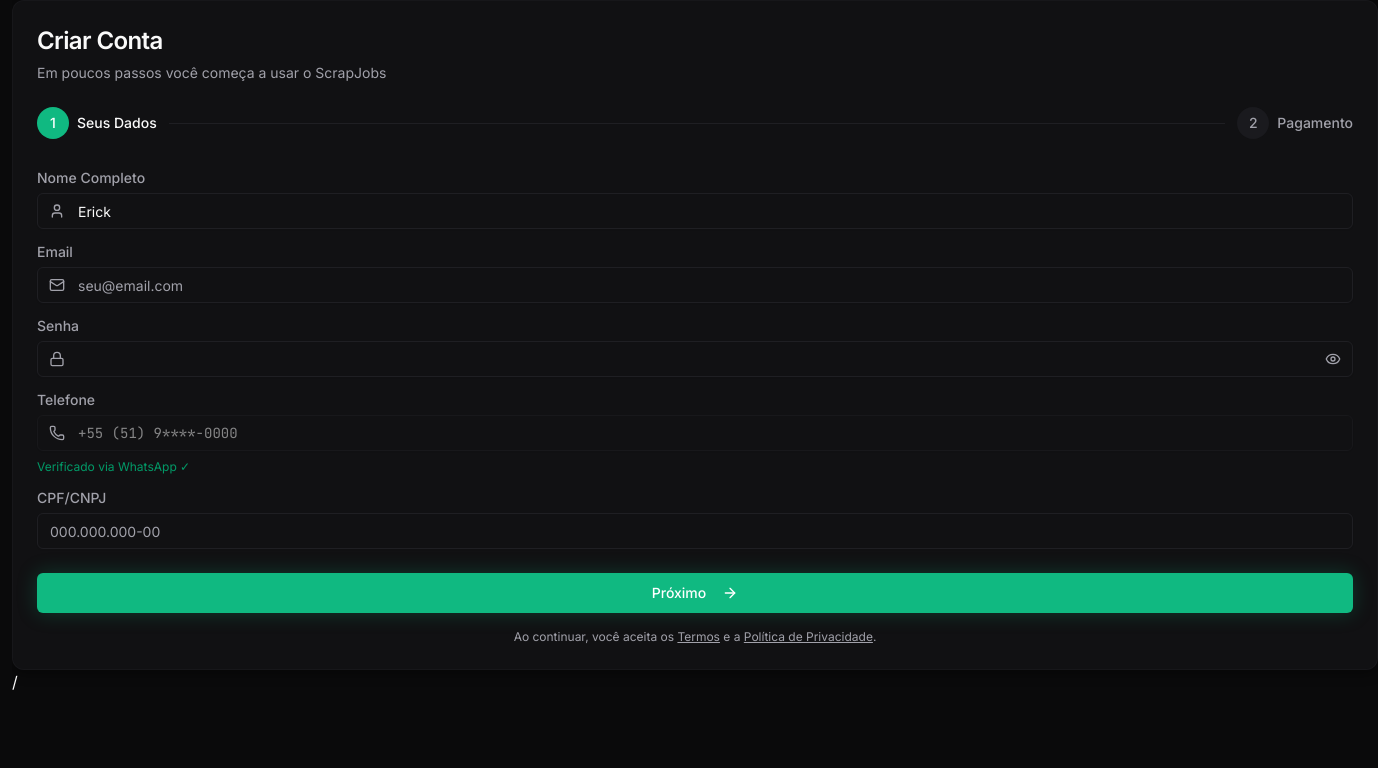
Test case: PaymentForm — modo lead (checkout mágico via lead_token) › erro 409 no complete mostra a mensagem do backend (não sempre "e-mail/CPF") e manda pro login
The image size is (1378, 768).
Expected: the field labelled "Nome Completo" holds "Erick", [37, 193, 1353, 229]
Type "erick@teste.com" into the field labelled "Email" at [695, 285], box [37, 267, 1353, 303]
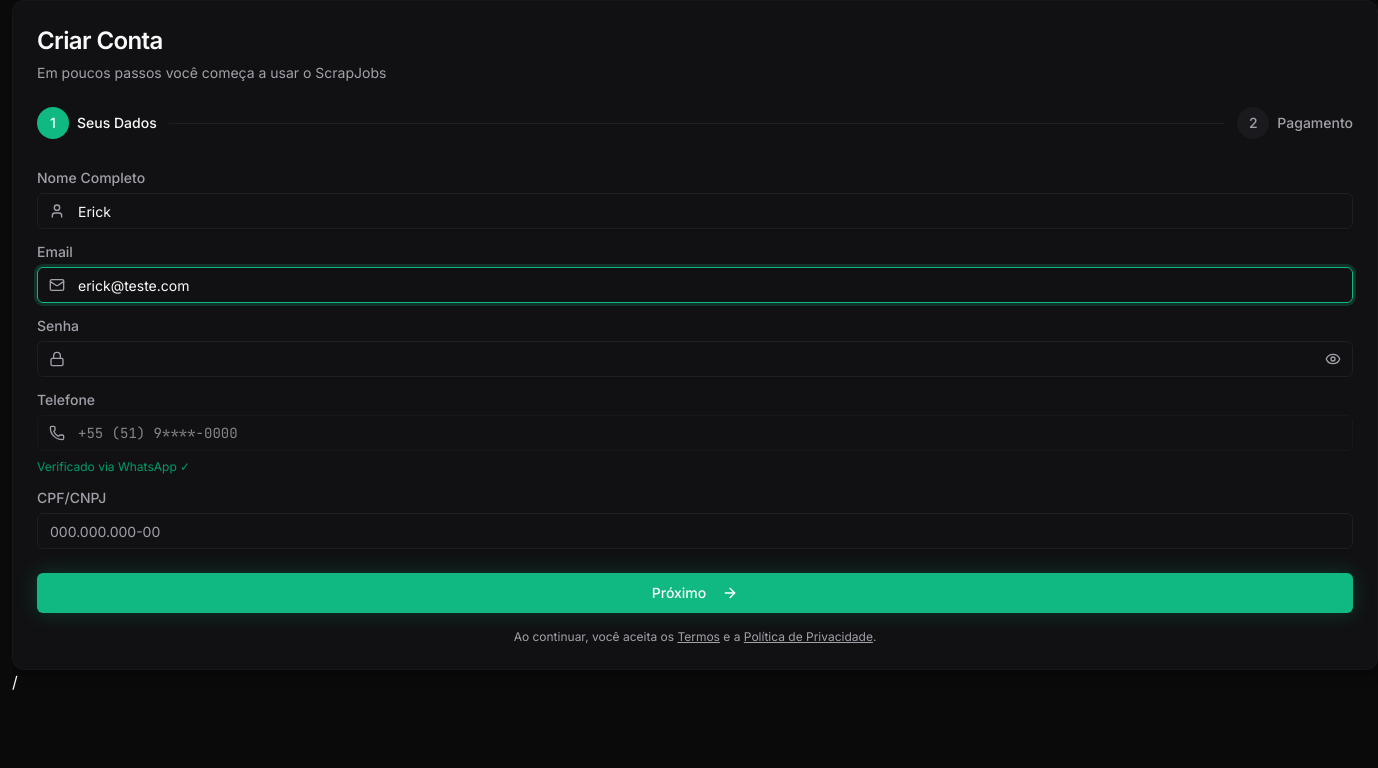
Type "senha12345" into the password field labelled "Senha" at [695, 359], box [37, 341, 1353, 377]
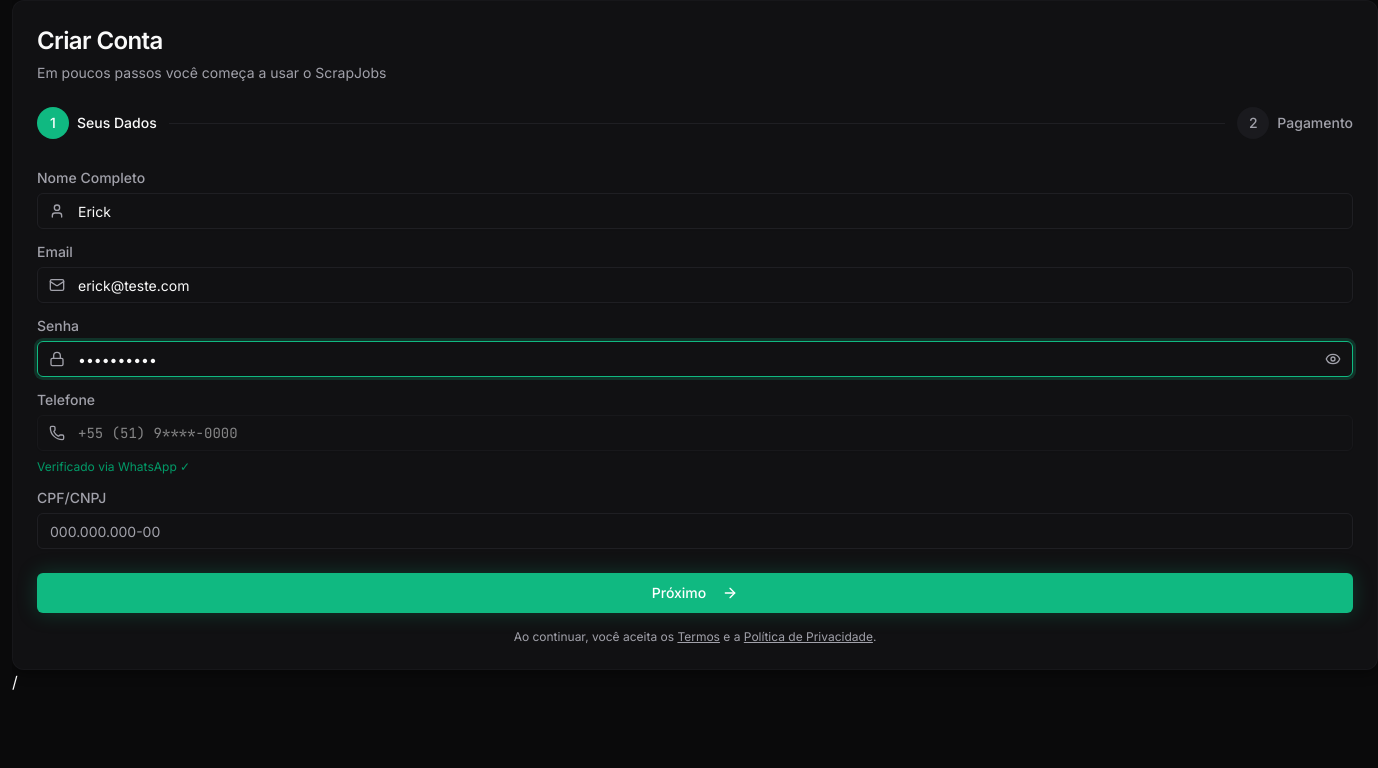
Type "52998224725" into the field labelled "CPF/CNPJ" at [695, 531], box [37, 513, 1353, 549]
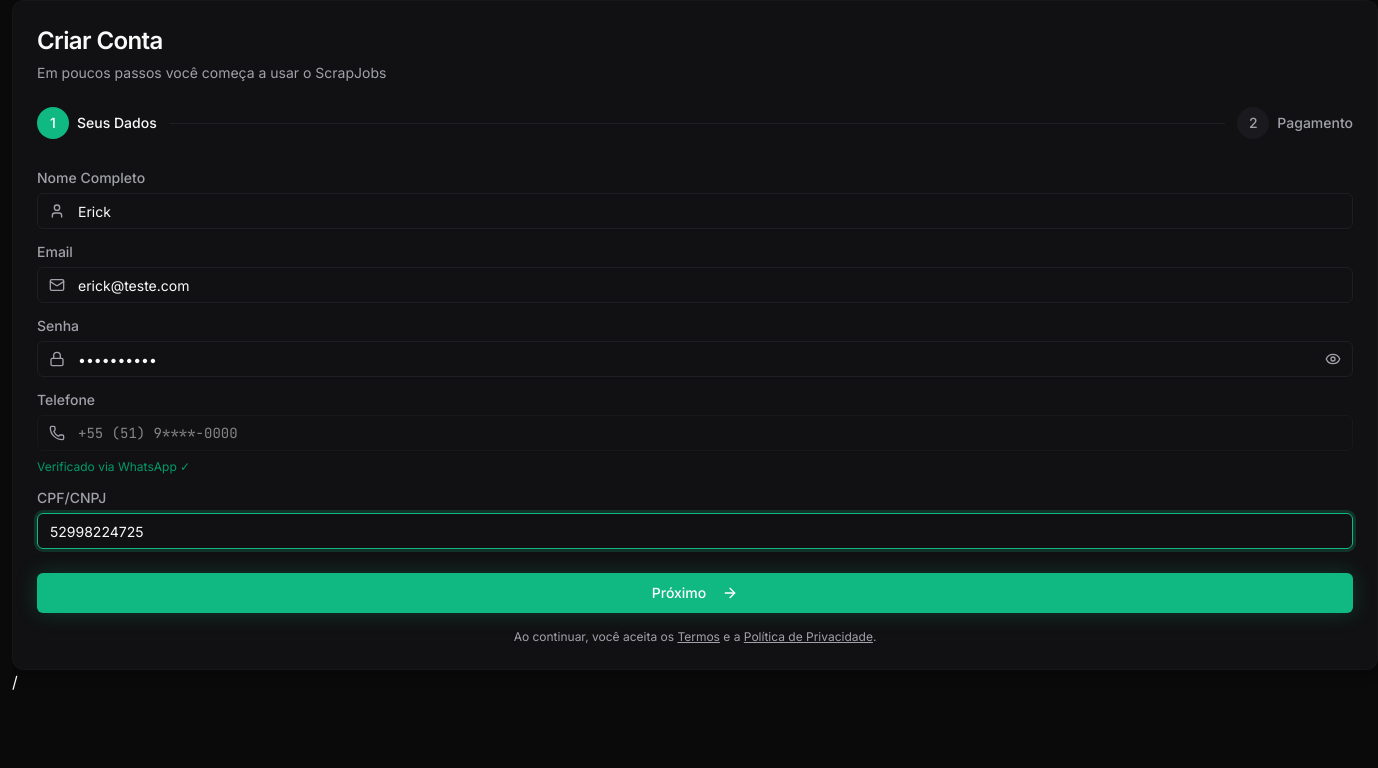
Click the button "Próximo" at [695, 593], box [37, 573, 1353, 613]
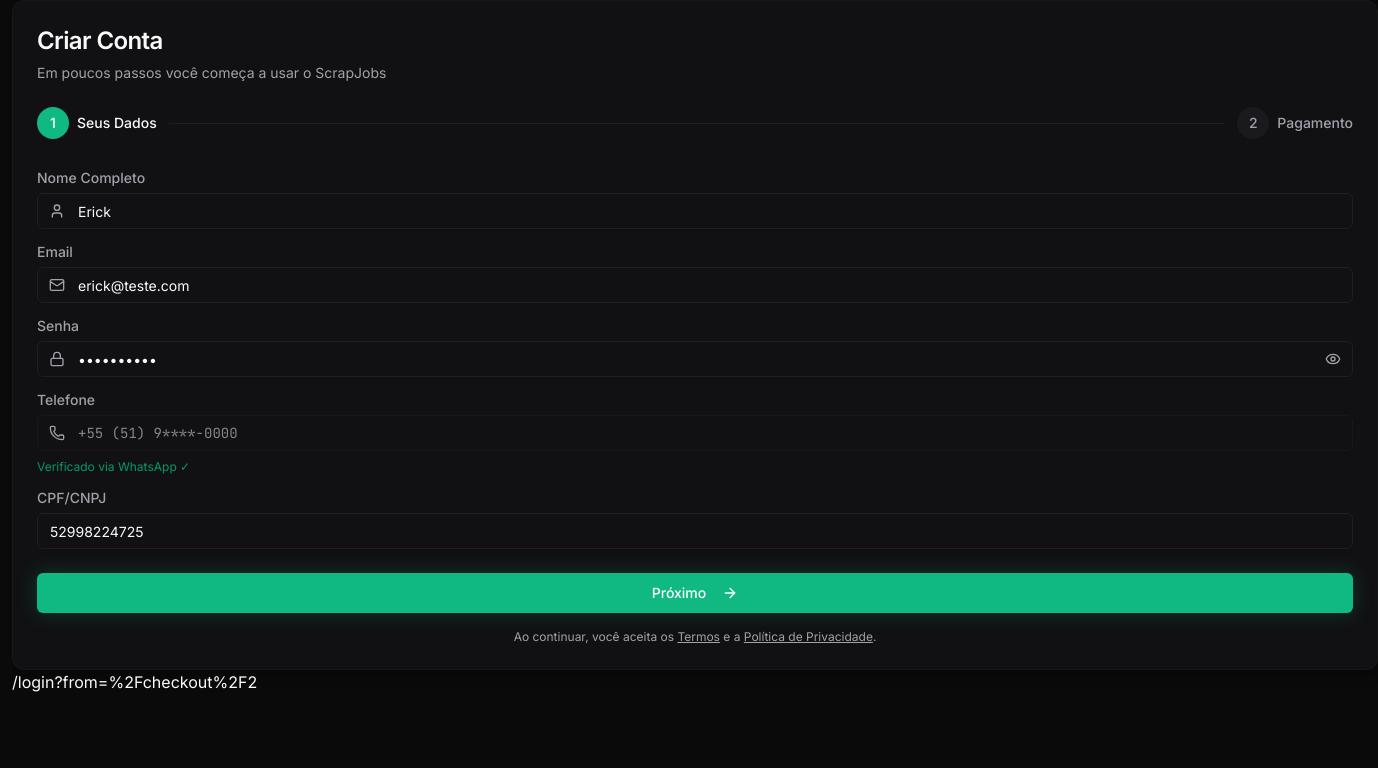
Result: the text with test id "location-probe" reads "/login?from=%2Fcheckout%2F2" at [12, 672, 257, 692]
